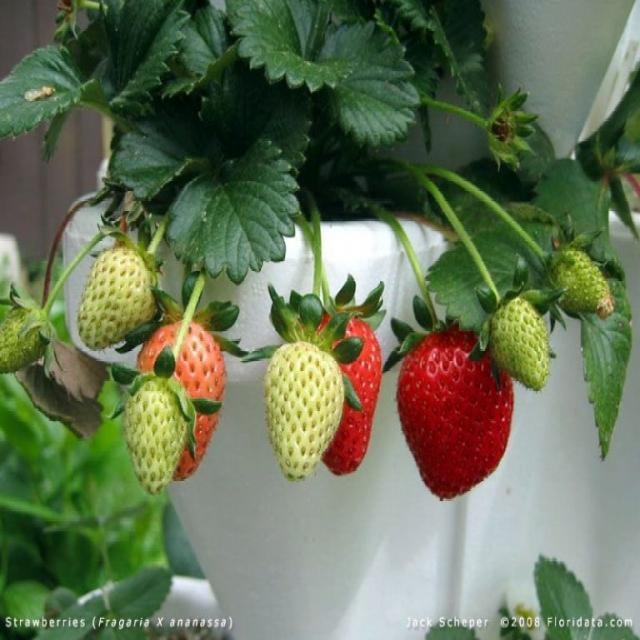ripe: (393, 321, 523, 502), (135, 314, 229, 478), (312, 310, 384, 476)
unripe: (258, 332, 348, 484), (120, 369, 193, 496), (76, 239, 156, 352), (482, 294, 558, 386), (0, 284, 62, 388), (552, 234, 618, 321)
